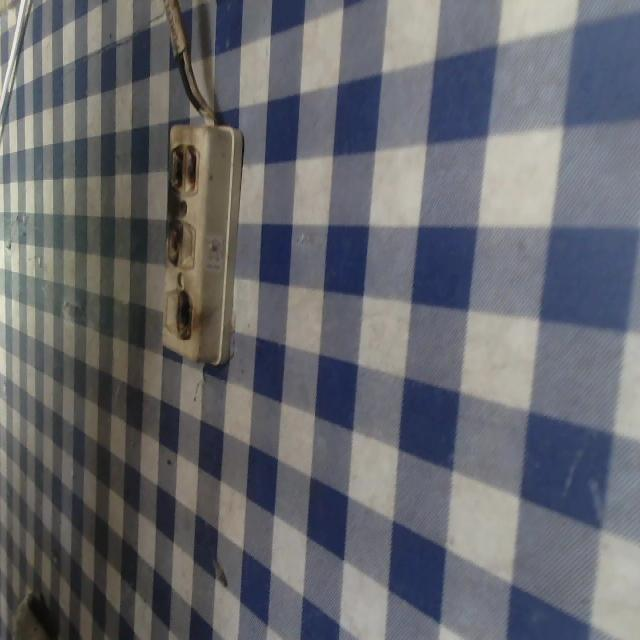-: (166, 138, 200, 198), (161, 214, 185, 270), (175, 287, 195, 341)
